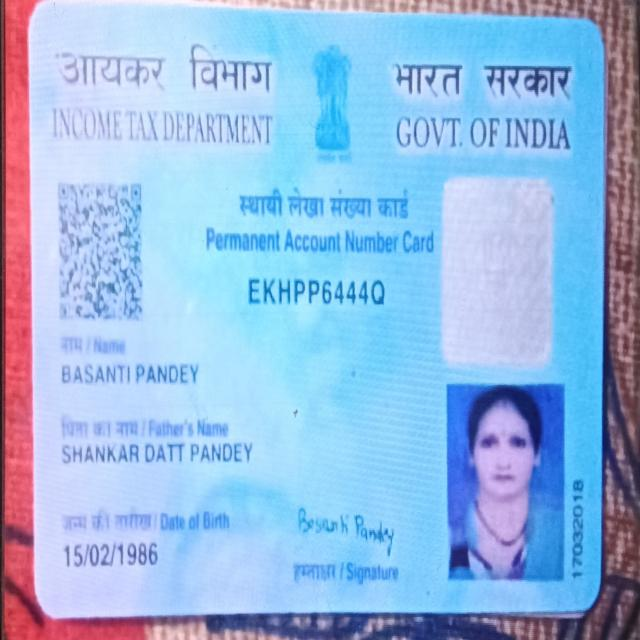pan_card: (34, 2, 602, 609)
